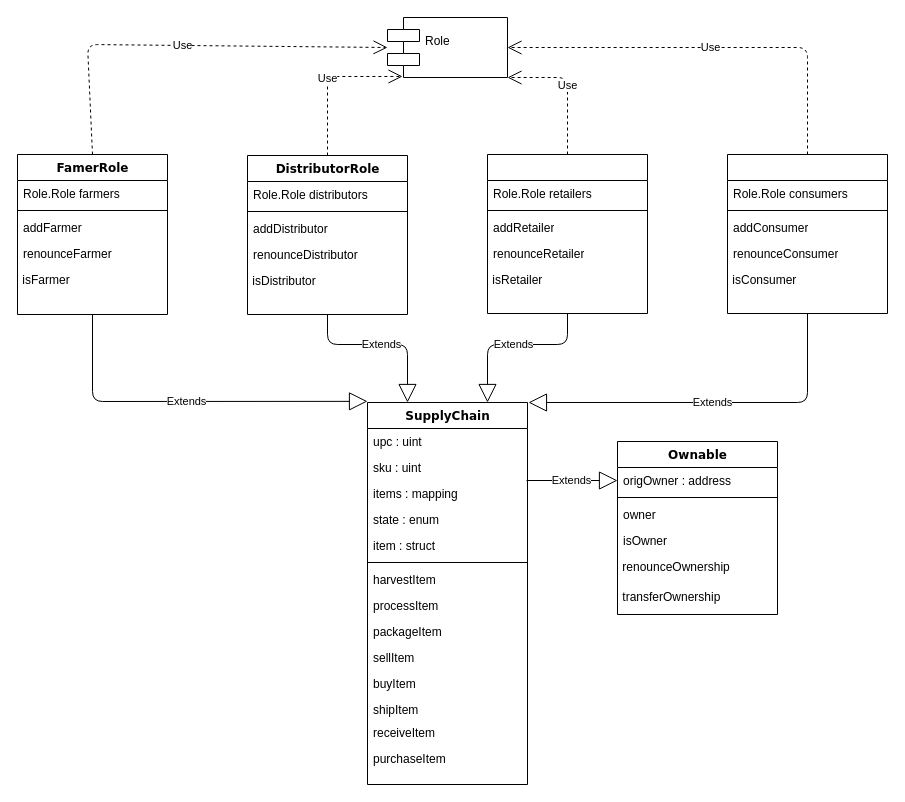
The diagram is 905 pixels wide and 802 high, and some of its shapes have lost their labels. Each missing label, with the box of its shape:
ConsumerRole: (726, 154, 888, 314)
RetailerRole: (486, 154, 648, 314)
